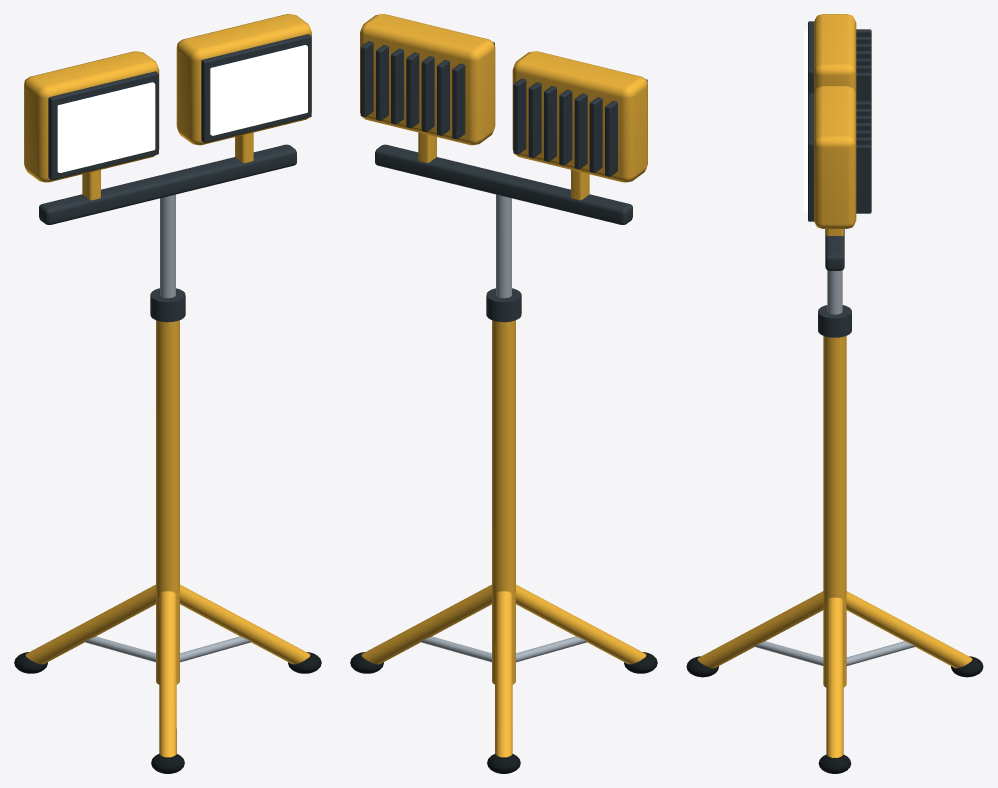
The model's file is 06_seyyar_lamba.glb.
3 renders of one model, left to right at view 1: azimuth 30°, elevation 25°; view 2: azimuth 150°, elevation 25°; view 3: azimuth 270°, elevation 25°, orthographic. The views are drawn at different scales.
Visible parts, largest first — view 1: 06_seyyar_lamba__frame; view 2: 06_seyyar_lamba__frame; view 3: 06_seyyar_lamba__frame.
Part boxes in pixels (bbox=[...]): 06_seyyar_lamba__frame: bbox=[14, 14, 321, 773]; 06_seyyar_lamba__frame: bbox=[350, 14, 657, 773]; 06_seyyar_lamba__frame: bbox=[686, 14, 983, 773].
Bounding box in the file's own units: 0.906 × 1.97 × 0.8369.
